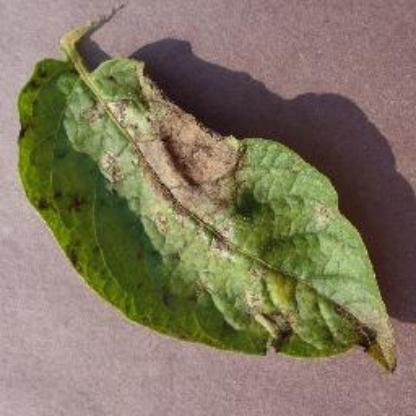Late-Blight: (12, 20, 408, 382)
